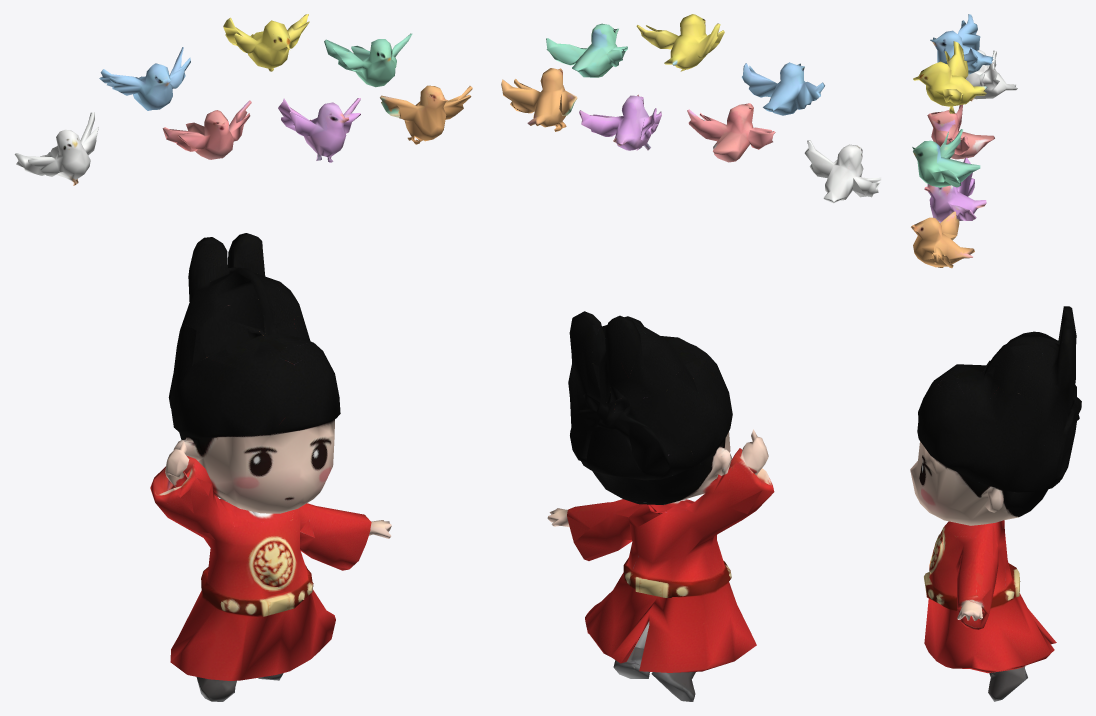
File: danjong-bird-ani.glb
3 views of the same model, side by side, from view 1: azimuth 30°, elevation 25°; view 2: azimuth 150°, elevation 25°; view 3: azimuth 270°, elevation 25° (orthographic). The views are drawn at different scales.
Parts seen in each view (by area): view 1: Mesh_0; view 2: Mesh_0; view 3: Mesh_0.
Boxes of the visible parts, bbox=[...] form: Mesh_0: bbox=[14, 14, 472, 701]; Mesh_0: bbox=[501, 14, 881, 701]; Mesh_0: bbox=[910, 14, 1081, 701].
Bounding box in the file's own units: 9.51 × 14.9 × 3.64.
1 material, 1 textured.
